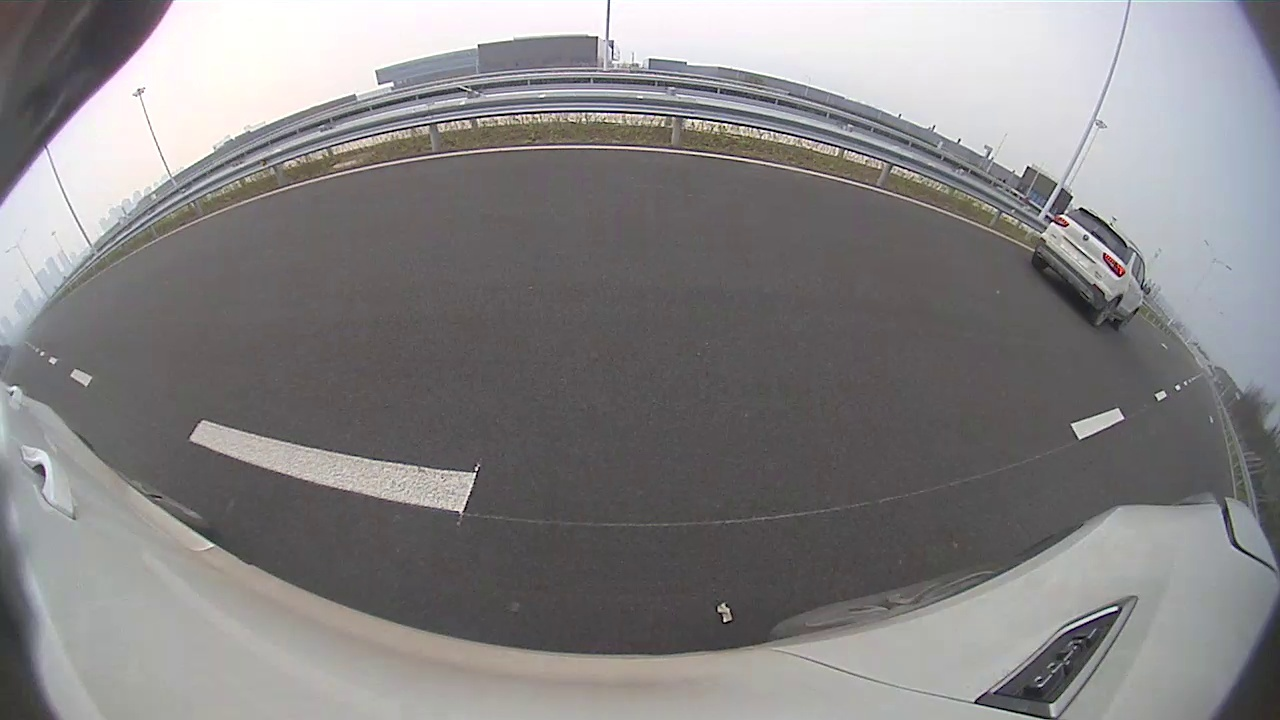car: (0, 309, 128, 513)
front: (20, 401, 108, 504)
